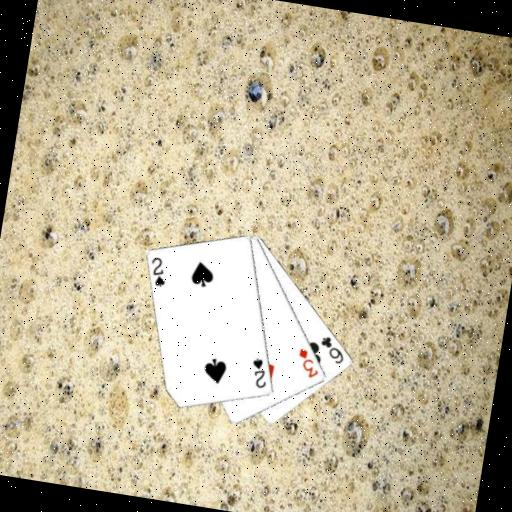2S: (246, 354, 271, 390), (145, 253, 170, 289)
3D: (292, 344, 324, 380)
6C: (315, 332, 348, 366)
